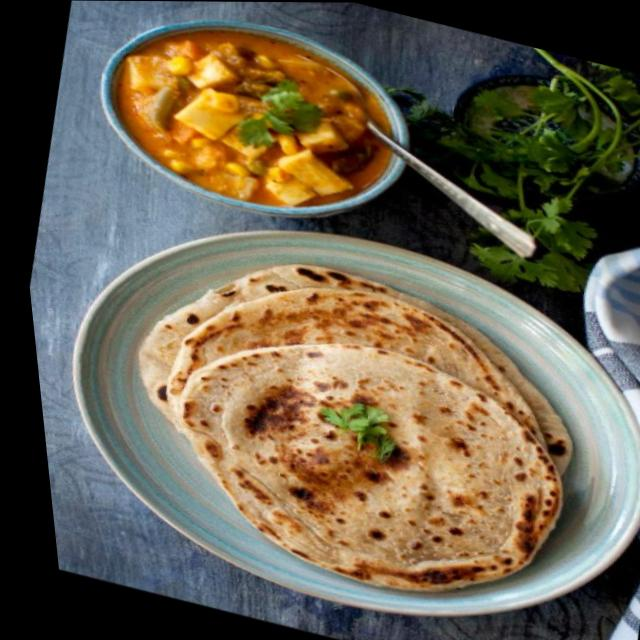CURRY: (108, 28, 390, 205)
PAROTTA: (129, 263, 583, 595)
